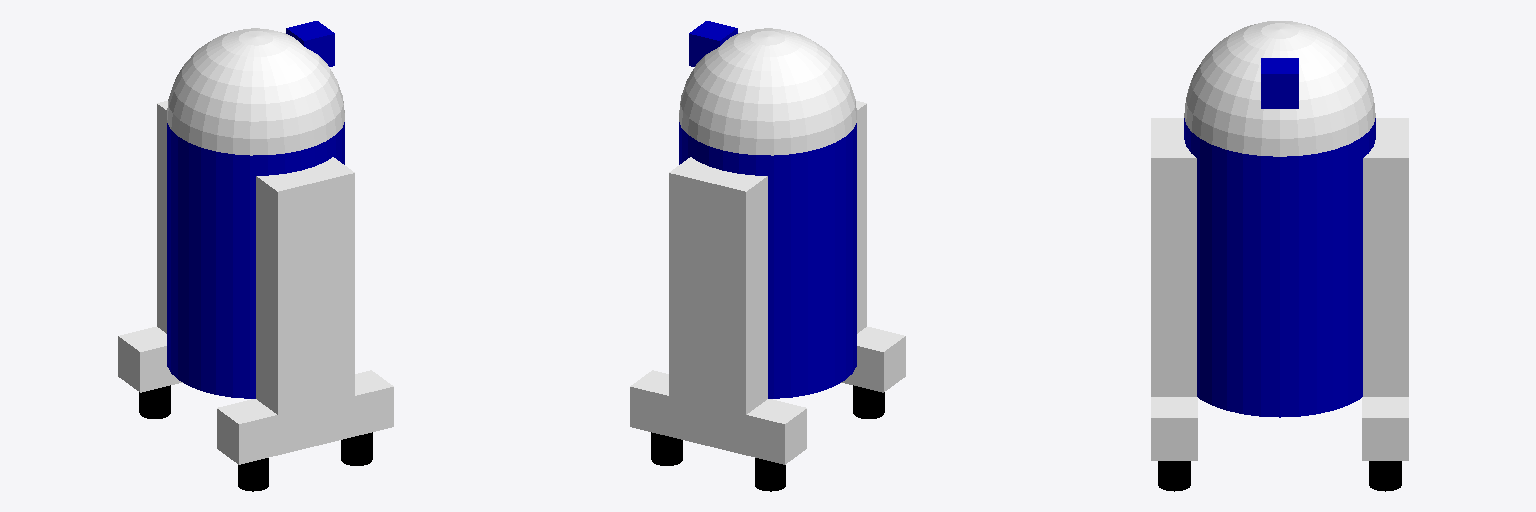
URDF robot description (minir2d2):
<?xml version="1.0" ?>
<!-- =================================================================================== -->
<!-- |    This document was autogenerated by xacro from r2d2.xacro                     | -->
<!-- |    EDITING THIS FILE BY HAND IS NOT RECOMMENDED                                 | -->
<!-- =================================================================================== -->
<robot name="minir2d2" xmlns:xacro="http://ros.org/wiki/xacro">
  <!--<xacro:property name="width" value=".2" />
  <xacro:property name="leglen" value=".6" />
  <xacro:property name="polelen" value=".2" />
  <xacro:property name="bodylen" value=".6" />
  <xacro:property name="baselen" value=".4" />
  <xacro:property name="wheeldiam" value=".07" />
  <xacro:property name="pi" value="3.1415" />-->
  <material name="blue">
    <color rgba="0 0 .8 1"/>
  </material>
  <material name="black">
    <color rgba="0 0 0 1"/>
  </material>
  <material name="white">
    <color rgba="1 1 1 1"/>
  </material>
  <link name="base_link">
    <visual>
      <geometry>
        <cylinder length="0.06" radius="0.02"/>
      </geometry>
      <material name="blue"/>
    </visual>
    <collision>
      <geometry>
        <cylinder length="0.06" radius="0.02"/>
      </geometry>
    </collision>
    <inertial>
      <mass value="10"/>
      <inertia ixx="1.0" ixy="0.0" ixz="0.0" iyy="1.0" iyz="0.0" izz="1.0"/>
    </inertial>
  </link>
  <link name="right_leg">
    <visual>
      <geometry>
        <box size="0.06 .01 .02"/>
      </geometry>
      <origin rpy="0 1.57075 0" xyz="0 0 -0.03"/>
      <material name="white"/>
    </visual>
    <collision>
      <geometry>
        <box size="0.06 .01 .02"/>
      </geometry>
      <origin rpy="0 1.57075 0" xyz="0 0 -0.03"/>
    </collision>
    <inertial>
      <mass value="10"/>
      <inertia ixx="1.0" ixy="0.0" ixz="0.0" iyy="1.0" iyz="0.0" izz="1.0"/>
    </inertial>
  </link>
  <joint name="base_to_right_leg" type="fixed">
    <parent link="base_link"/>
    <child link="right_leg"/>
    <origin xyz="0 -0.022 .025"/>
  </joint>
  <link name="right_base">
    <visual>
      <geometry>
        <box size="0.04 .01 .01"/>
      </geometry>
      <material name="white"/>
    </visual>
    <collision>
      <geometry>
        <box size="0.04 .01 .01"/>
      </geometry>
    </collision>
    <inertial>
      <mass value="10"/>
      <inertia ixx="1.0" ixy="0.0" ixz="0.0" iyy="1.0" iyz="0.0" izz="1.0"/>
    </inertial>
  </link>
  <joint name="right_base_joint" type="fixed">
    <parent link="right_leg"/>
    <child link="right_base"/>
    <origin xyz="0 0 -0.06"/>
  </joint>
  <link name="right_front_wheel">
    <visual>
      <origin rpy="1.57075 0 0" xyz="0 0 0"/>
      <geometry>
        <cylinder length="0.01" radius="0.0035"/>
      </geometry>
      <material name="black"/>
      <origin rpy="0 0 0" xyz="0 0 0"/>
    </visual>
    <collision>
      <origin rpy="1.57075 0 0" xyz="0 0 0"/>
      <geometry>
        <cylinder length="0.01" radius="0.0035"/>
      </geometry>
      <origin rpy="0 0 0" xyz="0 0 0"/>
    </collision>
    <inertial>
      <mass value="1"/>
      <inertia ixx="1.0" ixy="0.0" ixz="0.0" iyy="1.0" iyz="0.0" izz="1.0"/>
    </inertial>
  </link>
  <joint name="right_front_wheel_joint" type="continuous">
    <axis rpy="0 0 0" xyz="0 .1 0"/>
    <parent link="right_base"/>
    <child link="right_front_wheel"/>
    <origin rpy="0 0 0" xyz="0.0133333333333 0 -0.0085"/>
  </joint>
  <!-- This block provides the simulator (Gazebo) with information on a few additional
    physical properties. See http://gazebosim.org/tutorials/?tut=ros_urdf for more-->
  <gazebo reference="right_front_wheel">
    <mu1 value="200.0"/>
    <mu2 value="100.0"/>
    <kp value="10000000.0"/>
    <kd value="1.0"/>
    <material>Gazebo/Grey</material>
  </gazebo>
  <!-- This block connects the wheel joint to an actuator (motor), which informs both
    simulation and visualization of the robot -->
  <transmission name="right_front_wheel_trans" type="SimpleTransmission">
    <type>transmission_interface/SimpleTransmission</type>
    <actuator name="right_front_wheel_motor">
      <mechanicalReduction>1</mechanicalReduction>
    </actuator>
    <joint name="right_front_wheel_joint">
      <hardwareInterface>VelocityJointInterface</hardwareInterface>
    </joint>
  </transmission>
  <link name="right_back_wheel">
    <visual>
      <origin rpy="1.57075 0 0" xyz="0 0 0"/>
      <geometry>
        <cylinder length="0.01" radius="0.0035"/>
      </geometry>
      <material name="black"/>
      <origin rpy="0 0 0" xyz="0 0 0"/>
    </visual>
    <collision>
      <origin rpy="1.57075 0 0" xyz="0 0 0"/>
      <geometry>
        <cylinder length="0.01" radius="0.0035"/>
      </geometry>
      <origin rpy="0 0 0" xyz="0 0 0"/>
    </collision>
    <inertial>
      <mass value="1"/>
      <inertia ixx="1.0" ixy="0.0" ixz="0.0" iyy="1.0" iyz="0.0" izz="1.0"/>
    </inertial>
  </link>
  <joint name="right_back_wheel_joint" type="continuous">
    <axis rpy="0 0 0" xyz="0 .1 0"/>
    <parent link="right_base"/>
    <child link="right_back_wheel"/>
    <origin rpy="0 0 0" xyz="-0.0133333333333 0 -0.0085"/>
  </joint>
  <!-- This block provides the simulator (Gazebo) with information on a few additional
    physical properties. See http://gazebosim.org/tutorials/?tut=ros_urdf for more-->
  <gazebo reference="right_back_wheel">
    <mu1 value="200.0"/>
    <mu2 value="100.0"/>
    <kp value="10000000.0"/>
    <kd value="1.0"/>
    <material>Gazebo/Grey</material>
  </gazebo>
  <!-- This block connects the wheel joint to an actuator (motor), which informs both
    simulation and visualization of the robot -->
  <transmission name="right_back_wheel_trans" type="SimpleTransmission">
    <type>transmission_interface/SimpleTransmission</type>
    <actuator name="right_back_wheel_motor">
      <mechanicalReduction>1</mechanicalReduction>
    </actuator>
    <joint name="right_back_wheel_joint">
      <hardwareInterface>VelocityJointInterface</hardwareInterface>
    </joint>
  </transmission>
  <link name="left_leg">
    <visual>
      <geometry>
        <box size="0.06 .01 .02"/>
      </geometry>
      <origin rpy="0 1.57075 0" xyz="0 0 -0.03"/>
      <material name="white"/>
    </visual>
    <collision>
      <geometry>
        <box size="0.06 .01 .02"/>
      </geometry>
      <origin rpy="0 1.57075 0" xyz="0 0 -0.03"/>
    </collision>
    <inertial>
      <mass value="10"/>
      <inertia ixx="1.0" ixy="0.0" ixz="0.0" iyy="1.0" iyz="0.0" izz="1.0"/>
    </inertial>
  </link>
  <joint name="base_to_left_leg" type="fixed">
    <parent link="base_link"/>
    <child link="left_leg"/>
    <origin xyz="0 0.022 .025"/>
  </joint>
  <link name="left_base">
    <visual>
      <geometry>
        <box size="0.04 .01 .01"/>
      </geometry>
      <material name="white"/>
    </visual>
    <collision>
      <geometry>
        <box size="0.04 .01 .01"/>
      </geometry>
    </collision>
    <inertial>
      <mass value="10"/>
      <inertia ixx="1.0" ixy="0.0" ixz="0.0" iyy="1.0" iyz="0.0" izz="1.0"/>
    </inertial>
  </link>
  <joint name="left_base_joint" type="fixed">
    <parent link="left_leg"/>
    <child link="left_base"/>
    <origin xyz="0 0 -0.06"/>
  </joint>
  <link name="left_front_wheel">
    <visual>
      <origin rpy="1.57075 0 0" xyz="0 0 0"/>
      <geometry>
        <cylinder length="0.01" radius="0.0035"/>
      </geometry>
      <material name="black"/>
      <origin rpy="0 0 0" xyz="0 0 0"/>
    </visual>
    <collision>
      <origin rpy="1.57075 0 0" xyz="0 0 0"/>
      <geometry>
        <cylinder length="0.01" radius="0.0035"/>
      </geometry>
      <origin rpy="0 0 0" xyz="0 0 0"/>
    </collision>
    <inertial>
      <mass value="1"/>
      <inertia ixx="1.0" ixy="0.0" ixz="0.0" iyy="1.0" iyz="0.0" izz="1.0"/>
    </inertial>
  </link>
  <joint name="left_front_wheel_joint" type="continuous">
    <axis rpy="0 0 0" xyz="0 .1 0"/>
    <parent link="left_base"/>
    <child link="left_front_wheel"/>
    <origin rpy="0 0 0" xyz="0.0133333333333 0 -0.0085"/>
  </joint>
  <!-- This block provides the simulator (Gazebo) with information on a few additional
    physical properties. See http://gazebosim.org/tutorials/?tut=ros_urdf for more-->
  <gazebo reference="left_front_wheel">
    <mu1 value="200.0"/>
    <mu2 value="100.0"/>
    <kp value="10000000.0"/>
    <kd value="1.0"/>
    <material>Gazebo/Grey</material>
  </gazebo>
  <!-- This block connects the wheel joint to an actuator (motor), which informs both
    simulation and visualization of the robot -->
  <transmission name="left_front_wheel_trans" type="SimpleTransmission">
    <type>transmission_interface/SimpleTransmission</type>
    <actuator name="left_front_wheel_motor">
      <mechanicalReduction>1</mechanicalReduction>
    </actuator>
    <joint name="left_front_wheel_joint">
      <hardwareInterface>VelocityJointInterface</hardwareInterface>
    </joint>
  </transmission>
  <link name="left_back_wheel">
    <visual>
      <origin rpy="1.57075 0 0" xyz="0 0 0"/>
      <geometry>
        <cylinder length="0.01" radius="0.0035"/>
      </geometry>
      <material name="black"/>
      <origin rpy="0 0 0" xyz="0 0 0"/>
    </visual>
    <collision>
      <origin rpy="1.57075 0 0" xyz="0 0 0"/>
      <geometry>
        <cylinder length="0.01" radius="0.0035"/>
      </geometry>
      <origin rpy="0 0 0" xyz="0 0 0"/>
    </collision>
    <inertial>
      <mass value="1"/>
      <inertia ixx="1.0" ixy="0.0" ixz="0.0" iyy="1.0" iyz="0.0" izz="1.0"/>
    </inertial>
  </link>
  <joint name="left_back_wheel_joint" type="continuous">
    <axis rpy="0 0 0" xyz="0 .1 0"/>
    <parent link="left_base"/>
    <child link="left_back_wheel"/>
    <origin rpy="0 0 0" xyz="-0.0133333333333 0 -0.0085"/>
  </joint>
  <!-- This block provides the simulator (Gazebo) with information on a few additional
    physical properties. See http://gazebosim.org/tutorials/?tut=ros_urdf for more-->
  <gazebo reference="left_back_wheel">
    <mu1 value="200.0"/>
    <mu2 value="100.0"/>
    <kp value="10000000.0"/>
    <kd value="1.0"/>
    <material>Gazebo/Grey</material>
  </gazebo>
  <!-- This block connects the wheel joint to an actuator (motor), which informs both
    simulation and visualization of the robot -->
  <transmission name="left_back_wheel_trans" type="SimpleTransmission">
    <type>transmission_interface/SimpleTransmission</type>
    <actuator name="left_back_wheel_motor">
      <mechanicalReduction>1</mechanicalReduction>
    </actuator>
    <joint name="left_back_wheel_joint">
      <hardwareInterface>VelocityJointInterface</hardwareInterface>
    </joint>
  </transmission>
  <!--<joint name="gripper_extension" type="prismatic">
    <parent link="base_link"/>
    <child link="gripper_pole"/>
    <limit effort="1000.0" lower="-${width*2-.02}" upper="0" velocity="0.5"/>
    <origin rpy="0 0 0" xyz="${width-.01} 0 .2"/>
    <limit effort="30" velocity="0.2"/>
    <dynamics damping="0.0" friction="0.0"/>
  </joint>

  <link name="gripper_pole">
    <visual>
      <geometry>
        <cylinder length="${polelen}" radius=".001"/>
      </geometry>
      <origin xyz="${polelen/2} 0 0" rpy="0 ${pi/2} 0 "/>
    </visual>
    <collision>
      <geometry>
        <cylinder length="${polelen}" radius=".001"/>
      </geometry>
      <origin xyz="${polelen/2} 0 0" rpy="0 ${pi/2} 0 "/>
    </collision>
    <xacro:default_inertial mass=".05"/>
  </link>

  <transmission name="gripper_extension_trans" type="SimpleTransmission">
    <type>transmission_interface/SimpleTransmission</type>
    <actuator name="gripper_extension_motor">
      <mechanicalReduction>1</mechanicalReduction>
    </actuator>
    <joint name="gripper_extension">
      <hardwareInterface>PositionJointInterface</hardwareInterface>
    </joint>
  </transmission>

  <xacro:macro name="gripper" params="prefix reflect">
    <joint name="${prefix}_gripper_joint" type="revolute">
      <axis xyz="0 0 ${reflect}"/>
      <limit effort="1000.0" lower="0.0" upper="0.548" velocity="0.5"/>
      <origin rpy="0 0 0" xyz="${polelen} ${reflect*0.01} 0"/>
      <parent link="gripper_pole"/>
      <child link="${prefix}_gripper"/>
      <limit effort="30" velocity="1.0"/>
      <dynamics damping="0.0" friction="0.0"/>
    </joint>
    <link name="${prefix}_gripper">
      <visual>
        <origin rpy="${(reflect-1)/2*pi} 0 0" xyz="0 0 0"/>
        <geometry>
          <mesh filename="package://pr2_description/meshes/gripper_v0/l_finger.dae"/>
        </geometry>
      </visual>
      <collision>
        <geometry>
          <mesh filename="package://pr2_description/meshes/gripper_v0/l_finger.dae"/>
        </geometry>
        <origin rpy="${(reflect-1)/2*pi} 0 0" xyz="0 0 0"/>
      </collision>
      <xacro:default_inertial mass=".05"/>
    </link>
    <transmission name="${prefix}_gripper_trans" type="SimpleTransmission">
      <type>transmission_interface/SimpleTransmission</type>
      <actuator name="${prefix}_gripper_motor">
        <mechanicalReduction>1</mechanicalReduction>
      </actuator>
      <joint name="${prefix}_gripper_joint">
        <hardwareInterface>PositionJointInterface</hardwareInterface>
      </joint>
    </transmission>

    <joint name="${prefix}_tip_joint" type="fixed">
      <parent link="${prefix}_gripper"/>
      <child link="${prefix}_tip"/>
    </joint>
    <link name="${prefix}_tip">
      <visual>
        <origin rpy="${(reflect-1)/2*pi} 0 0" xyz="0.009137 0.000495 0"/>
        <geometry>
          <mesh filename="package://pr2_description/meshes/gripper_v0/l_finger_tip.dae"/>
        </geometry>
      </visual>
      <collision>
        <geometry>
          <mesh filename="package://pr2_description/meshes/gripper_v0/l_finger_tip.dae"/>
        </geometry>
        <origin rpy="${(reflect-1)/2*pi} 0 0" xyz="0.009137 0.000495 0"/>
      </collision>
      <xacro:default_inertial mass=".05"/>
    </link>
  </xacro:macro>

  <xacro:gripper prefix="left" reflect="1" />
  <xacro:gripper prefix="right" reflect="-1" />-->
  <link name="head">
    <visual>
      <geometry>
        <sphere radius="0.02"/>
      </geometry>
      <material name="white"/>
    </visual>
    <collision>
      <geometry>
        <sphere radius="0.02"/>
      </geometry>
    </collision>
    <inertial>
      <mass value="2"/>
      <inertia ixx="1.0" ixy="0.0" ixz="0.0" iyy="1.0" iyz="0.0" izz="1.0"/>
    </inertial>
  </link>
  <joint name="head_swivel" type="continuous">
    <parent link="base_link"/>
    <child link="head"/>
    <axis xyz="0 0 1"/>
    <origin xyz="0 0 0.03"/>
    <limit effort="30" velocity="1.0"/>
    <dynamics damping="0.0" friction="0.0"/>
  </joint>
  <!-- This block connects the head_swivel joint to an actuator (motor), which informs both
  simulation and visualization of the robot -->
  <transmission name="head_swivel_trans" type="SimpleTransmission">
    <type>transmission_interface/SimpleTransmission</type>
    <actuator name="$head_swivel_motor">
      <mechanicalReduction>1</mechanicalReduction>
    </actuator>
    <joint name="head_swivel">
      <hardwareInterface>PositionJointInterface</hardwareInterface>
    </joint>
  </transmission>
  <link name="box">
    <visual>
      <geometry>
        <box size=".008 .008 .008"/>
      </geometry>
      <material name="blue"/>
      <origin xyz="-0.04 0 0"/>
    </visual>
    <collision>
      <geometry>
        <box size=".008 .008 .008"/>
      </geometry>
    </collision>
    <inertial>
      <mass value="1"/>
      <inertia ixx="1.0" ixy="0.0" ixz="0.0" iyy="1.0" iyz="0.0" izz="1.0"/>
    </inertial>
  </link>
  <joint name="tobox" type="fixed">
    <parent link="head"/>
    <child link="box"/>
    <origin xyz="0.05414 0 0.01414"/>
  </joint>
  <!-- Gazebo plugin for ROS Control -->
  <gazebo>
    <plugin filename="libgazebo_ros_control.so" name="gazebo_ros_control">
      <robotNamespace>/</robotNamespace>
    </plugin>
  </gazebo>
</robot>

--- Render facts (derived) ---
3 views of the same robot in one strip: view 1: azimuth 30°, elevation 25°; view 2: azimuth 150°, elevation 25°; view 3: azimuth 270°, elevation 25° (orthographic).
Model minir2d2 with 11 links and 10 joints (5 continuous, 5 fixed), rooted at base_link, posed all joints at 0.
Links seen in each view (by area): view 1: right_leg, base_link, head, right_base, left_base, left_leg, box, right_front_wheel, left_back_wheel, right_back_wheel; view 2: base_link, left_leg, head, left_base, right_base, right_leg, box, left_front_wheel, right_back_wheel, left_back_wheel; view 3: base_link, head, right_leg, left_leg, right_base, left_base, box, right_front_wheel, left_front_wheel.
Boxes of the visible links, x1,y1,x2,y2 form: right_leg: (256,157,354,434); base_link: (167,122,344,398); head: (167,28,344,155); right_base: (217,370,393,464); left_base: (118,327,182,392); left_leg: (157,101,167,333); box: (286,21,334,66); right_front_wheel: (341,432,372,465); left_back_wheel: (139,385,170,418); right_back_wheel: (238,458,268,491); base_link: (679,122,856,398); left_leg: (669,157,767,429); head: (679,28,856,155); left_base: (630,370,806,464); right_base: (841,327,905,392); right_leg: (856,101,866,333); box: (689,21,737,66); left_front_wheel: (651,432,682,465); right_back_wheel: (853,385,884,418); left_back_wheel: (755,458,785,491); base_link: (1184,118,1375,417); head: (1184,21,1375,156); right_leg: (1151,118,1196,396); left_leg: (1363,118,1408,396); right_base: (1151,397,1197,460); left_base: (1362,397,1408,460); box: (1261,58,1298,108); right_front_wheel: (1158,461,1190,491); left_front_wheel: (1369,461,1401,491).
Bounding box of the posed robot: 0.04 × 0.054 × 0.0985 m (x, y, z).
Geometry: primitives only (box / cylinder / sphere), no mesh files.
